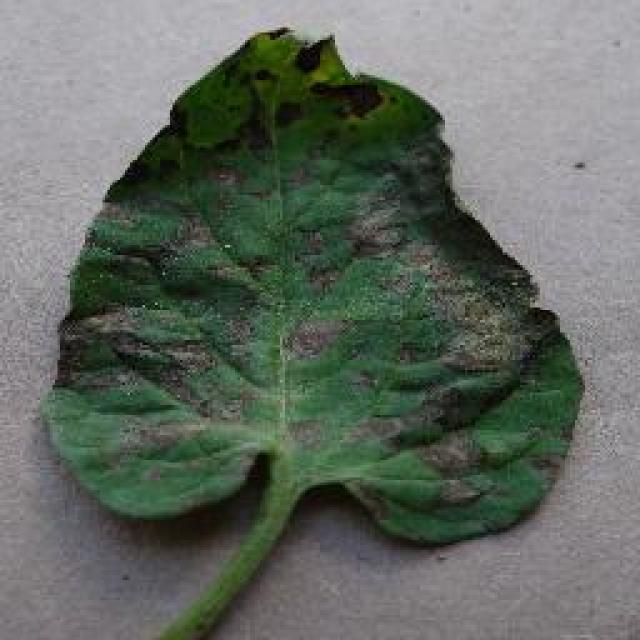Tomato___Early_blight: (39, 22, 588, 638)
